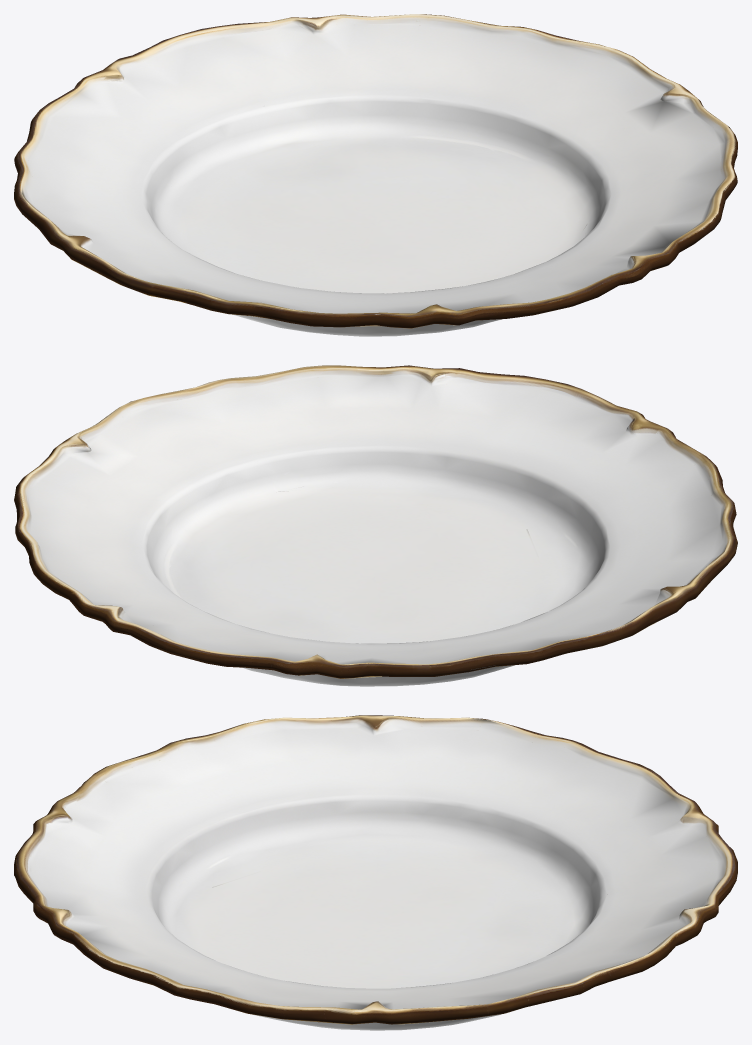
Rendered from WHITE_GOLD_ELLECHARGERPLATE_1INCHTALL_0222031132_texture.glb.
3 renders of one model, top to bottom at view 1: azimuth 30°, elevation 25°; view 2: azimuth 150°, elevation 25°; view 3: azimuth 270°, elevation 25°, orthographic. The views are drawn at different scales.
Visible parts, largest first — view 1: Mesh_0; view 2: Mesh_0; view 3: Mesh_0.
Part boxes in pixels (bbox=[...]): Mesh_0: bbox=[14, 14, 737, 336]; Mesh_0: bbox=[14, 365, 737, 686]; Mesh_0: bbox=[14, 715, 737, 1030].
Size of the model in its own units: 0.2062 by 0.0254 by 0.2097.
Materials: 1 (1 with a texture image).
